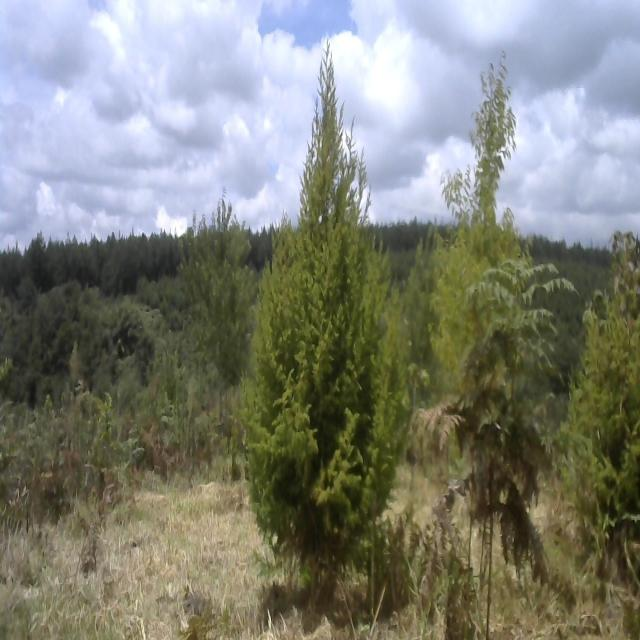cedrus: (248, 46, 424, 634), (576, 241, 640, 638)
other: (439, 55, 524, 388)
